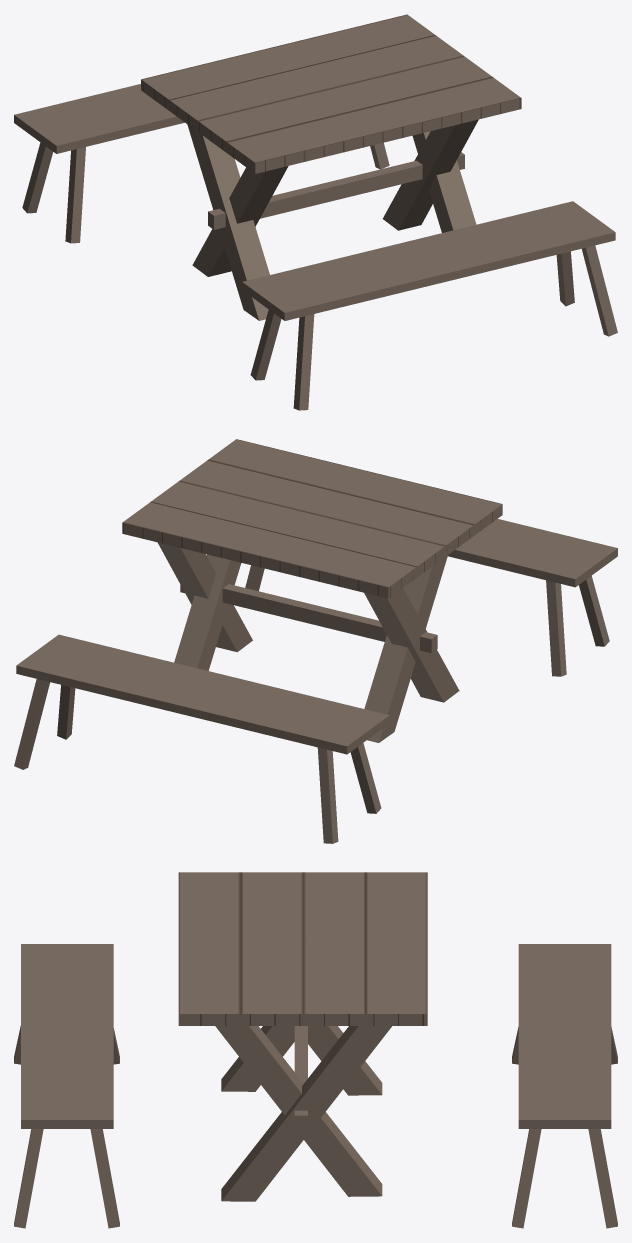
File: Masa.fbx
The picture shows the model from 3 angles, top to bottom: view 1: azimuth 30°, elevation 25°; view 2: azimuth 150°, elevation 25°; view 3: azimuth 270°, elevation 25°; orthographic projection. The views are drawn at different scales.
Parts seen in each view (by area): view 1: Model; view 2: Model; view 3: Model.
Boxes of the visible parts, box(x1,y1,x2,y2) form: Model: box(14, 14, 617, 410); Model: box(14, 439, 617, 843); Model: box(14, 872, 617, 1228).
Size of the model in its own units: 56.23 by 30.53 by 81.51.
